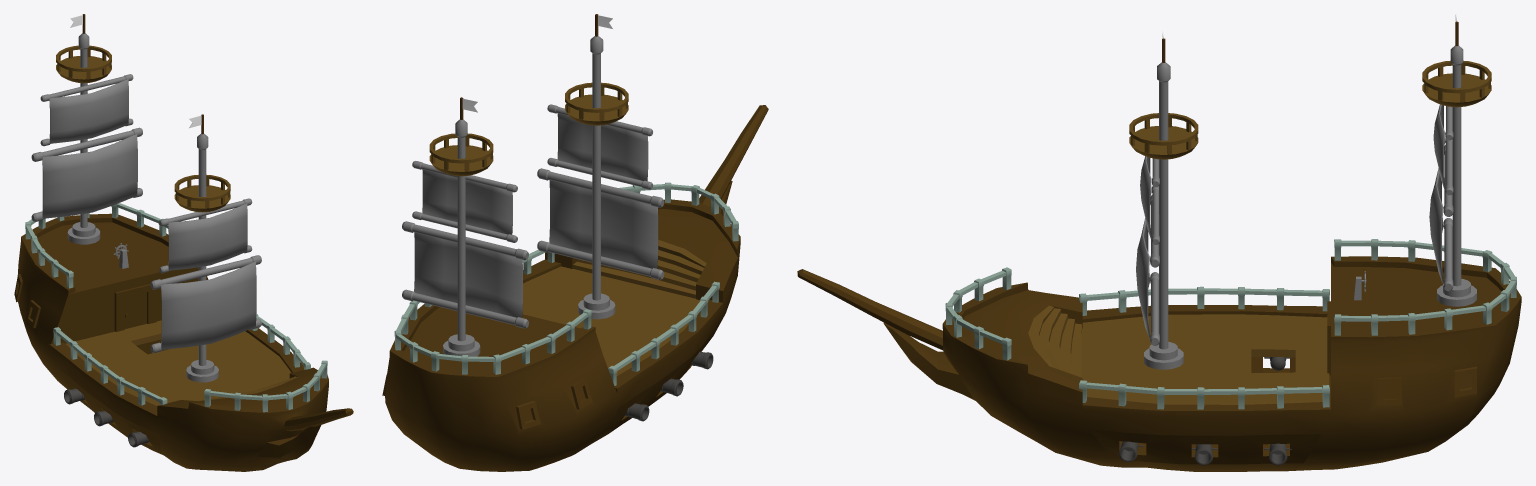
The model's file is FullBigShipObject.fbx.
The picture shows the model from 3 angles, left to right: view 1: azimuth 30°, elevation 25°; view 2: azimuth 150°, elevation 25°; view 3: azimuth 270°, elevation 25°; orthographic projection. The views are drawn at different scales.
Visible parts, largest first — view 1: MainShipBody, ShipFloor, PirateFlag004, PirateFlag006, PirateFlag003, PirateFlag005, CrowsNest (×2), Cylinder055, ShipBanister032, ShipBanister021, ShipBanister025, ShipPole (+5 smaller); view 2: MainShipBody, ShipFloor, PirateFlag004, PirateFlag006, CrowsNest (×2), PirateFlag003, PirateFlag005, Cylinder055, ShipStairs, ShipBanister032, ShipPole, ShipBanister021 (+9 smaller); view 3: MainShipBody, ShipFloor, CrowsNest (×2), ShipBanister032, Cylinder055, ShipPole, ShipStairs, ShipBanister, ShipBanister021, ShipBanister025, PirateFlag004, PirateFlag006.
Boxes of the visible parts, x1=… form: MainShipBody: x1=14, y1=213, x2=353, y2=471; ShipFloor: x1=65, y1=320, x2=291, y2=405; PirateFlag004: x1=161, y1=261, x2=256, y2=349; PirateFlag006: x1=42, y1=133, x2=137, y2=218; PirateFlag003: x1=168, y1=203, x2=247, y2=270; PirateFlag005: x1=49, y1=79, x2=128, y2=143; CrowsNest (×2): x1=56, y1=45, x2=230, y2=212; Cylinder055: x1=186, y1=134, x2=218, y2=382; ShipBanister032: x1=25, y1=203, x2=168, y2=288; ShipBanister021: x1=53, y1=327, x2=167, y2=405; ShipBanister025: x1=204, y1=360, x2=327, y2=412; ShipPole: x1=67, y1=33, x2=100, y2=244; MainShipBody: x1=382, y1=105, x2=768, y2=471; ShipFloor: x1=522, y1=266, x2=699, y2=375; PirateFlag004: x1=549, y1=180, x2=658, y2=268; PirateFlag006: x1=414, y1=232, x2=522, y2=317; CrowsNest (×2): x1=429, y1=82, x2=628, y2=176; PirateFlag003: x1=557, y1=113, x2=648, y2=181; PirateFlag005: x1=422, y1=169, x2=512, y2=234; Cylinder055: x1=578, y1=36, x2=615, y2=319; ShipStairs: x1=573, y1=240, x2=706, y2=298; ShipBanister032: x1=394, y1=300, x2=591, y2=374; ShipPole: x1=443, y1=119, x2=480, y2=356; ShipBanister021: x1=608, y1=281, x2=719, y2=385; MainShipBody: x1=797, y1=256, x2=1521, y2=471; ShipFloor: x1=1081, y1=314, x2=1329, y2=404; CrowsNest (×2): x1=1129, y1=60, x2=1491, y2=159; ShipBanister032: x1=1334, y1=239, x2=1516, y2=335; Cylinder055: x1=1144, y1=62, x2=1183, y2=369; ShipPole: x1=1437, y1=45, x2=1476, y2=306; ShipStairs: x1=1028, y1=305, x2=1081, y2=377; ShipBanister: x1=1079, y1=380, x2=1329, y2=409; ShipBanister021: x1=1079, y1=286, x2=1329, y2=315; ShipBanister025: x1=945, y1=267, x2=1011, y2=360; PirateFlag004: x1=1136, y1=218, x2=1149, y2=338; PirateFlag006: x1=1429, y1=168, x2=1443, y2=283.
Size of the model in its own units: 517 by 1461 by 931.
